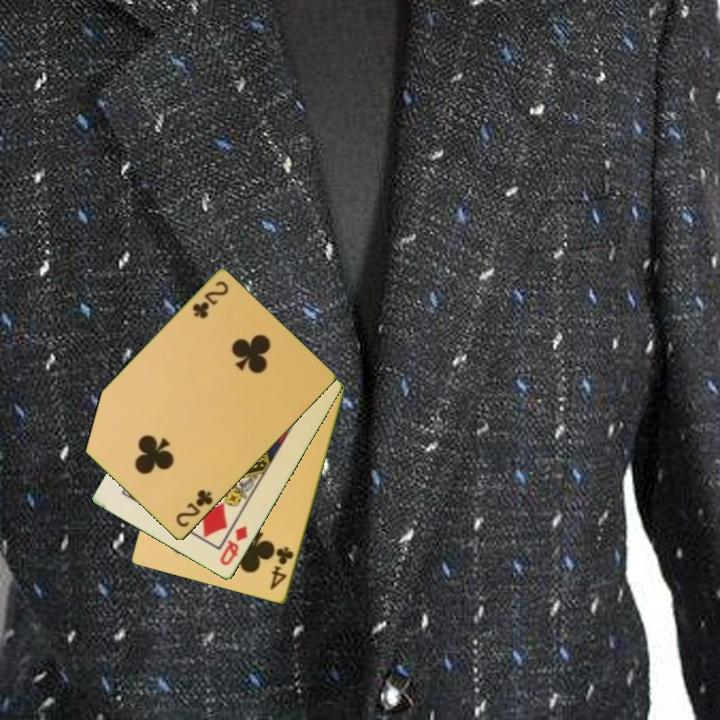2c: (173, 486, 216, 530), (188, 278, 231, 322)
4c: (267, 543, 297, 593)
Qd: (216, 522, 251, 569)
